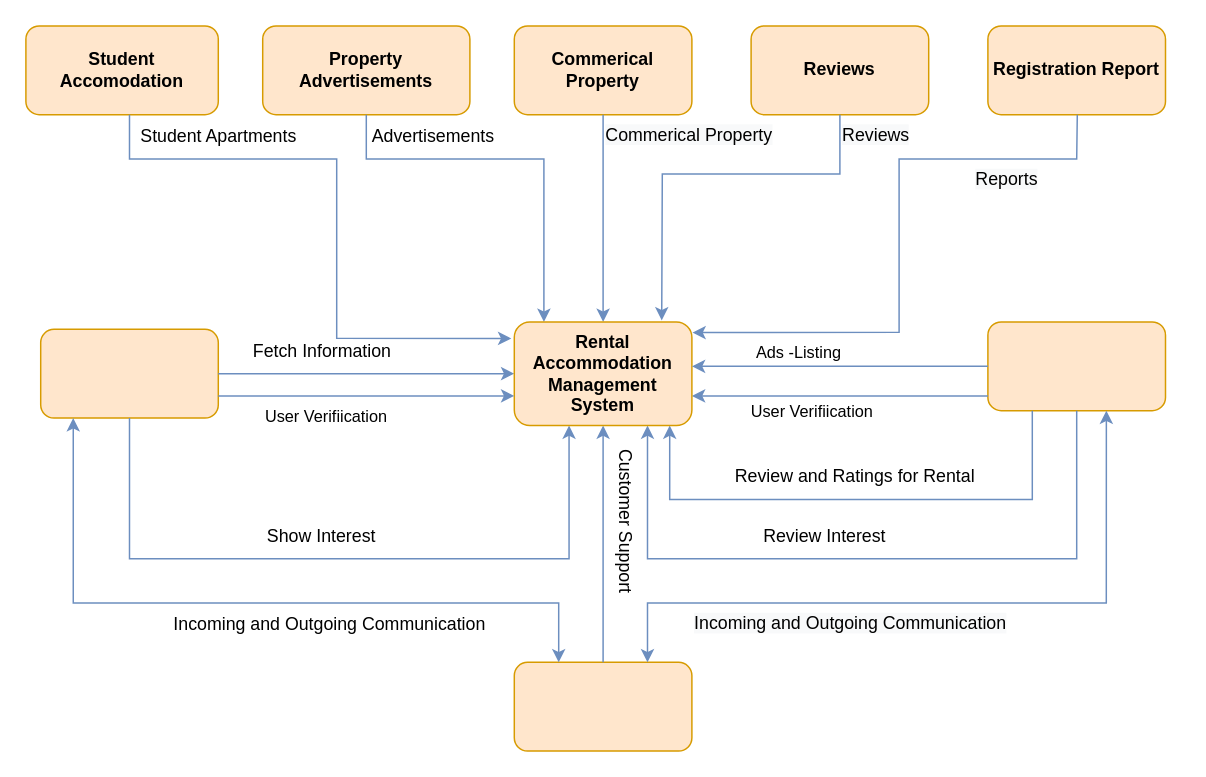
This 1206x777 diagram has some shape labels left out. The box of each missing label's shape, as (x1, y1, x2, y2) in pixels:
Notification System: (513, 661, 692, 751)
Property Client: (39, 328, 218, 418)
Proprietor: (986, 320, 1166, 411)
